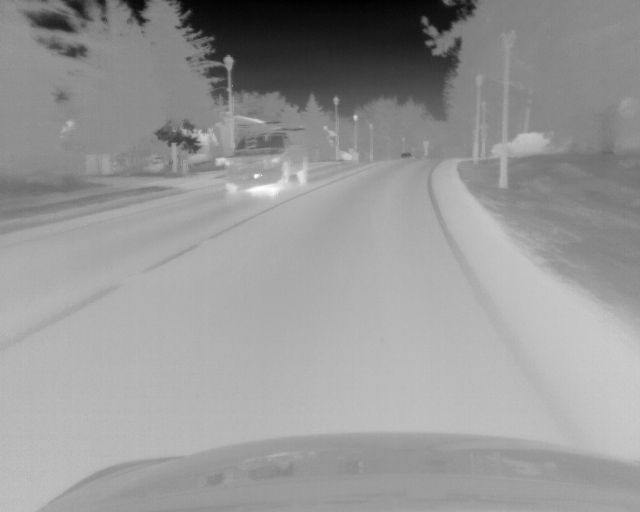car: (223, 127, 308, 198), (493, 130, 553, 157), (399, 151, 415, 160)
